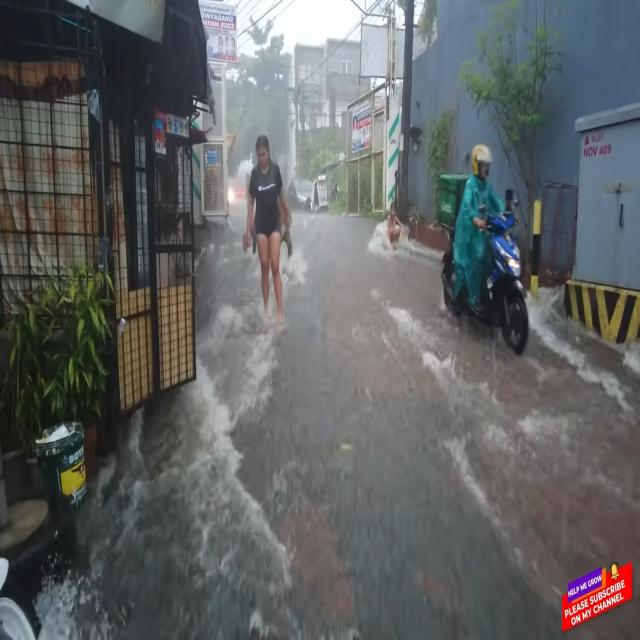half: (470, 135, 494, 187)
